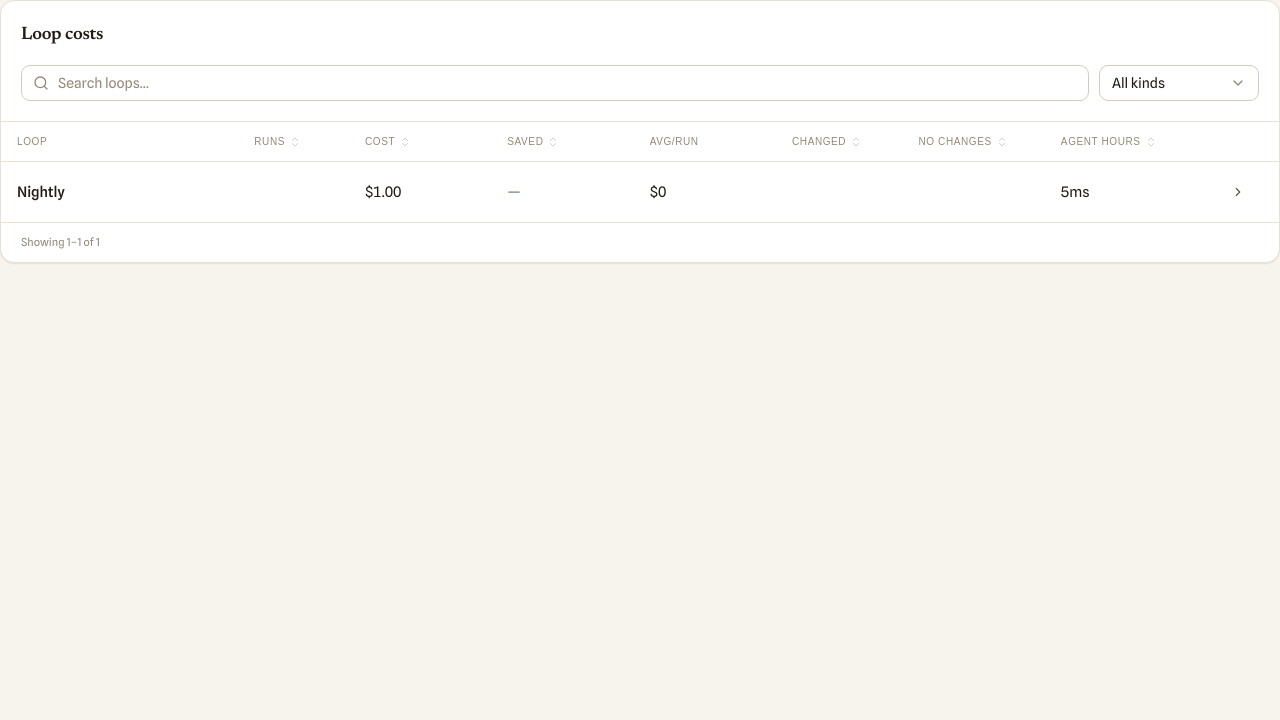
Test case: empty states distinguish "nothing there" from "nothing matches" › LoopUsageTable: a filter that excludes everything says so
Type "zzz-nothing" into the search field labelled "Search loops" at (555, 83), box [21, 65, 1089, 101]
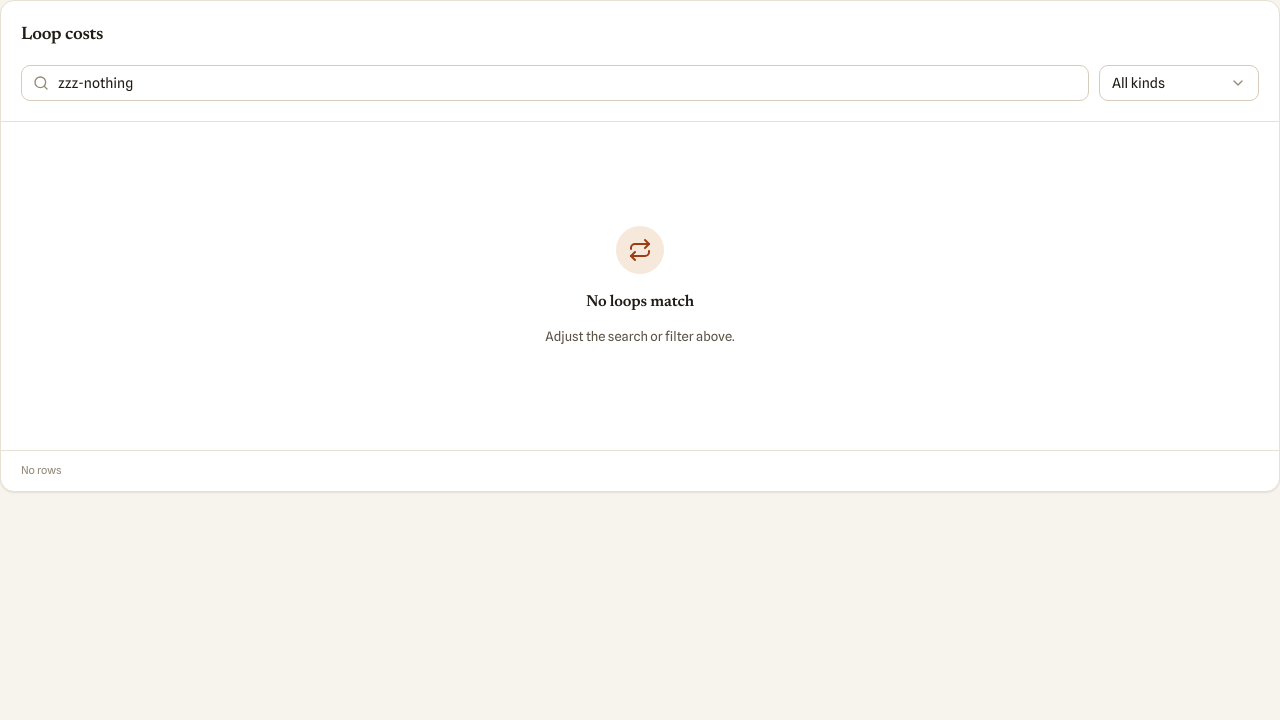
Expected: the heading "No loops match" is shown, [586, 290, 694, 314]
